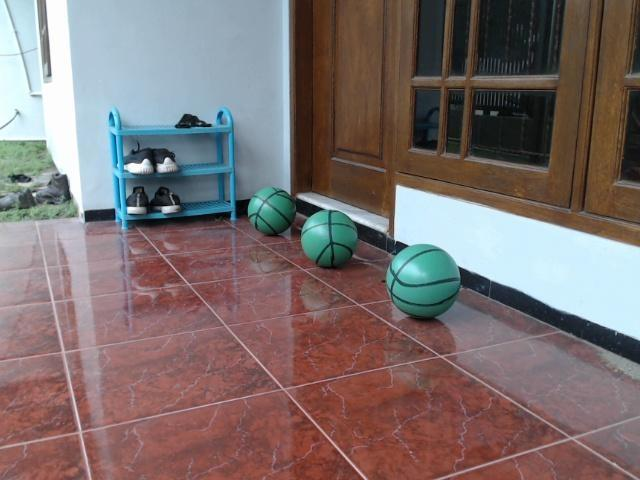Sports-Ball: (385, 236, 467, 324), (298, 211, 361, 275), (245, 181, 296, 239)
